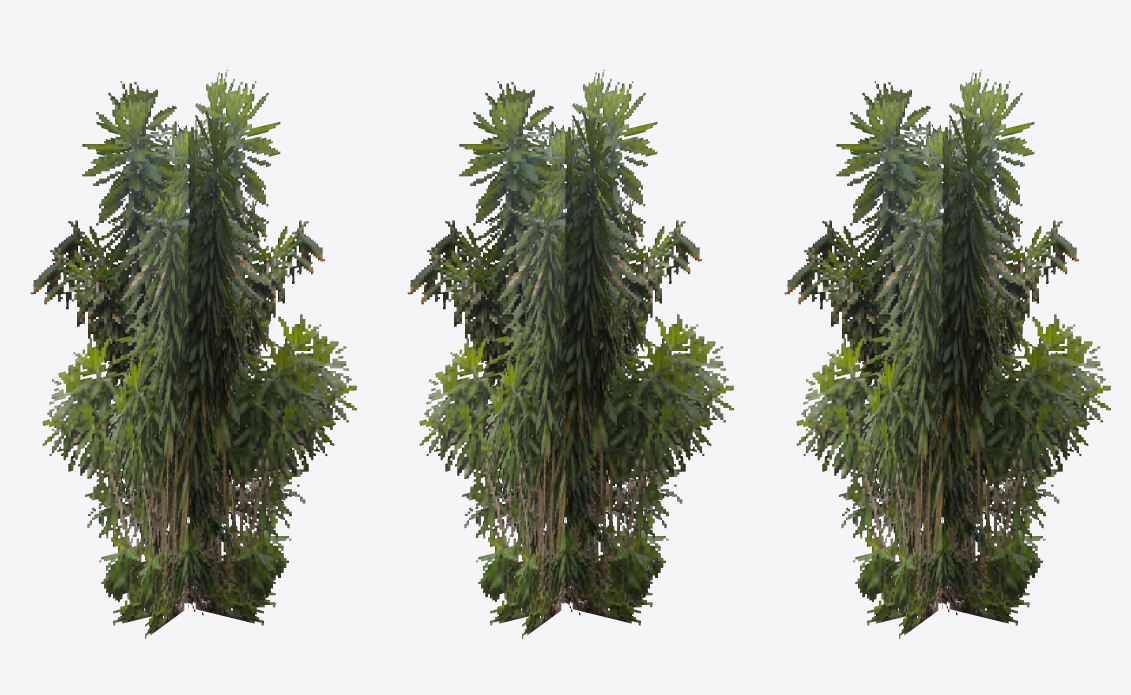
The model's file is plant2.fbx.
The picture shows the model from 3 angles, left to right: view 1: azimuth 30°, elevation 25°; view 2: azimuth 150°, elevation 25°; view 3: azimuth 270°, elevation 25°; orthographic projection.
Visible parts, largest first — view 1: pngfind.com-tropical-plants-png-1061658.001; view 2: pngfind.com-tropical-plants-png-1061658.001; view 3: pngfind.com-tropical-plants-png-1061658.001.
Boxes of the visible parts, bbox=[...] form: pngfind.com-tropical-plants-png-1061658.001: bbox=[30, 69, 356, 638]; pngfind.com-tropical-plants-png-1061658.001: bbox=[407, 69, 733, 638]; pngfind.com-tropical-plants-png-1061658.001: bbox=[784, 69, 1110, 638].
Size of the model in its own units: 60.66 by 100 by 60.66.
Materials: 1 (1 with a texture image).
